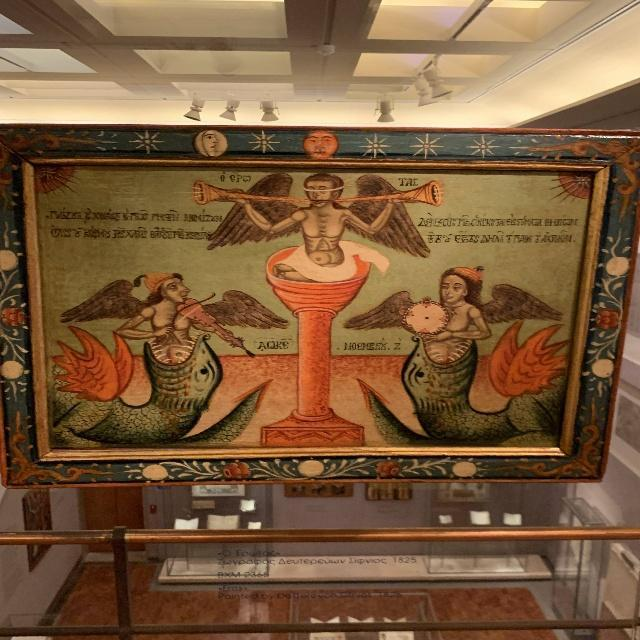dragon: (376, 337, 560, 441), (45, 342, 214, 453)
trumpet: (342, 186, 457, 203), (184, 191, 305, 205)
wing: (351, 177, 430, 250), (212, 180, 292, 248), (488, 283, 567, 323), (60, 283, 137, 323), (349, 295, 411, 329), (208, 295, 279, 324)
